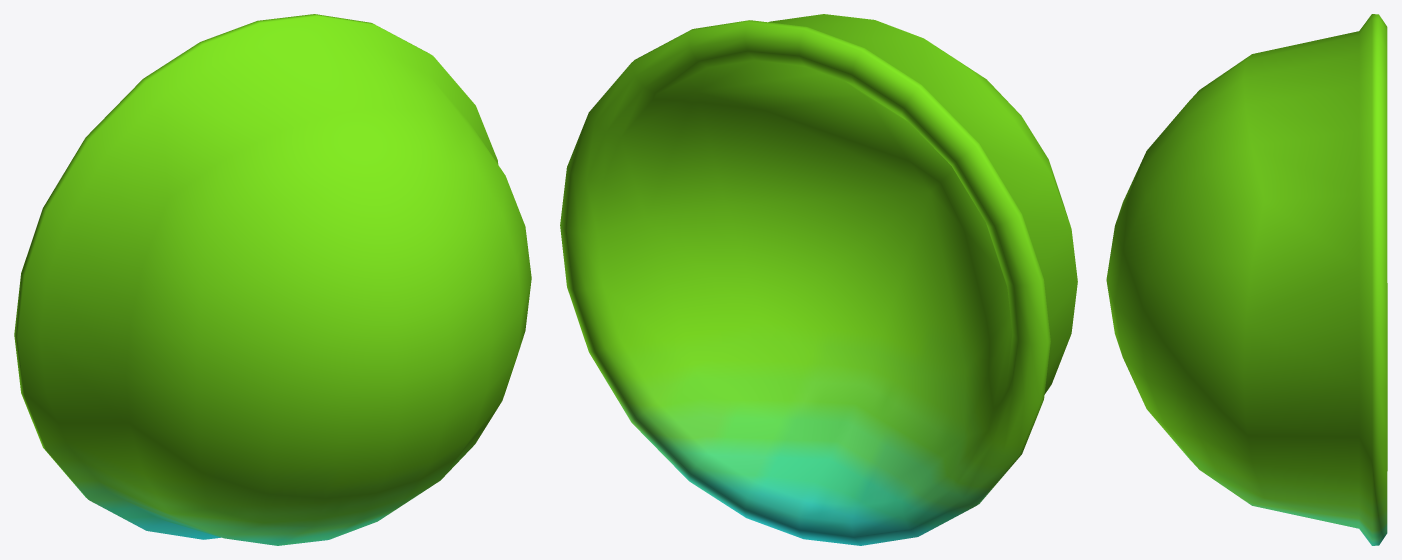
Rendered from Amongus02_Cut_038_0.FBX.
3 renders of one model, left to right at view 1: azimuth 30°, elevation 25°; view 2: azimuth 150°, elevation 25°; view 3: azimuth 270°, elevation 25°, orthographic. The views are drawn at different scales.
Parts seen in each view (by area): view 1: Amongus02_Cut_038_0; view 2: Amongus02_Cut_038_0; view 3: Amongus02_Cut_038_0.
Part boxes in pixels (box(x1,y1,x2,y2)): Amongus02_Cut_038_0: box(14, 14, 531, 545); Amongus02_Cut_038_0: box(560, 14, 1077, 545); Amongus02_Cut_038_0: box(1106, 14, 1387, 545).
Bounding box in the file's own units: 0.7584 × 0.4 × 0.7584.
